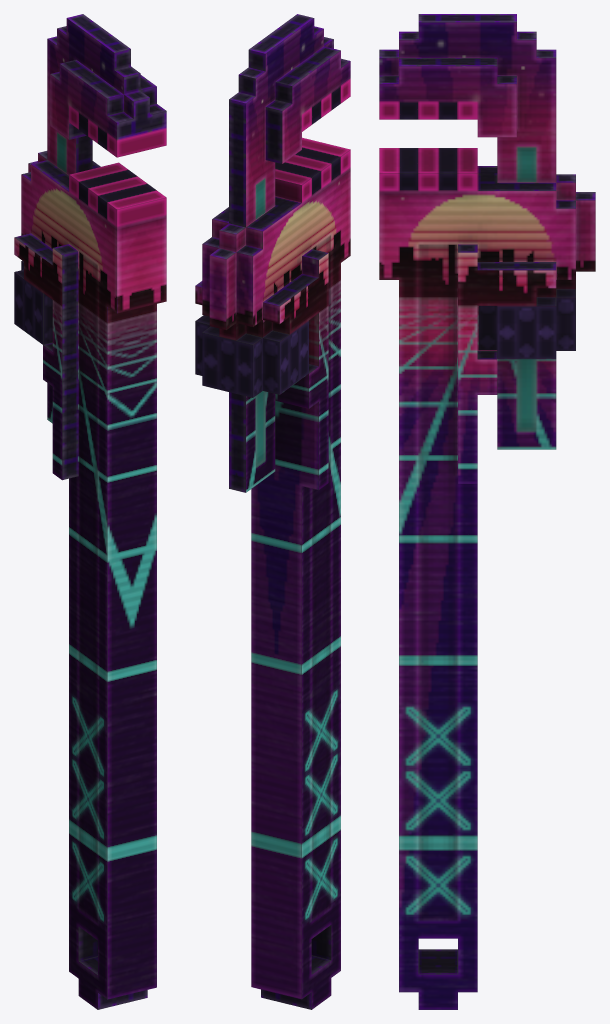
File: RD_WRENCH_RETRO.glb
The picture shows the model from 3 angles, left to right: view 1: azimuth 30°, elevation 25°; view 2: azimuth 150°, elevation 25°; view 3: azimuth 270°, elevation 25°; orthographic projection. The views are drawn at different scales.
Parts seen in each view (by area): view 1: REPAIR_TOOL; view 2: REPAIR_TOOL; view 3: REPAIR_TOOL.
Part boxes in pixels (bbox=[...]): REPAIR_TOOL: bbox=[14, 14, 166, 1009]; REPAIR_TOOL: bbox=[195, 14, 350, 1009]; REPAIR_TOOL: bbox=[379, 14, 595, 1009].
Size of the model in its own units: 0.0984 by 1.08 by 0.2165.
Materials: 1 (1 with a texture image).
